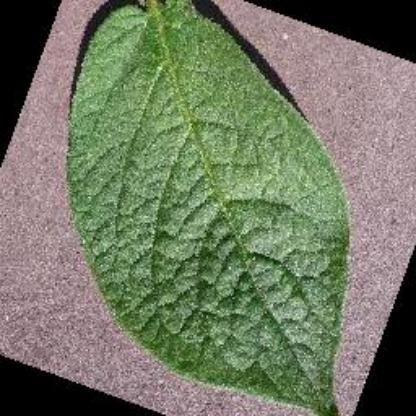Healthy-plant: (18, 5, 366, 403)
